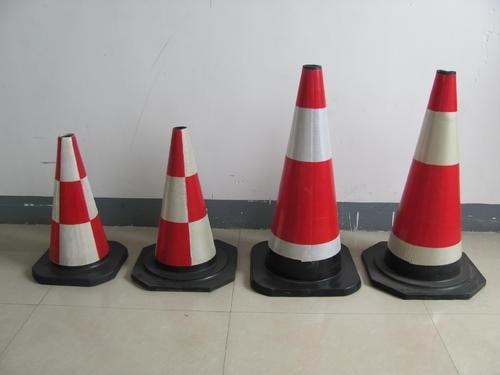cone_barrel: (381, 69, 476, 286), (261, 67, 354, 288), (145, 127, 223, 275), (38, 134, 112, 275)
